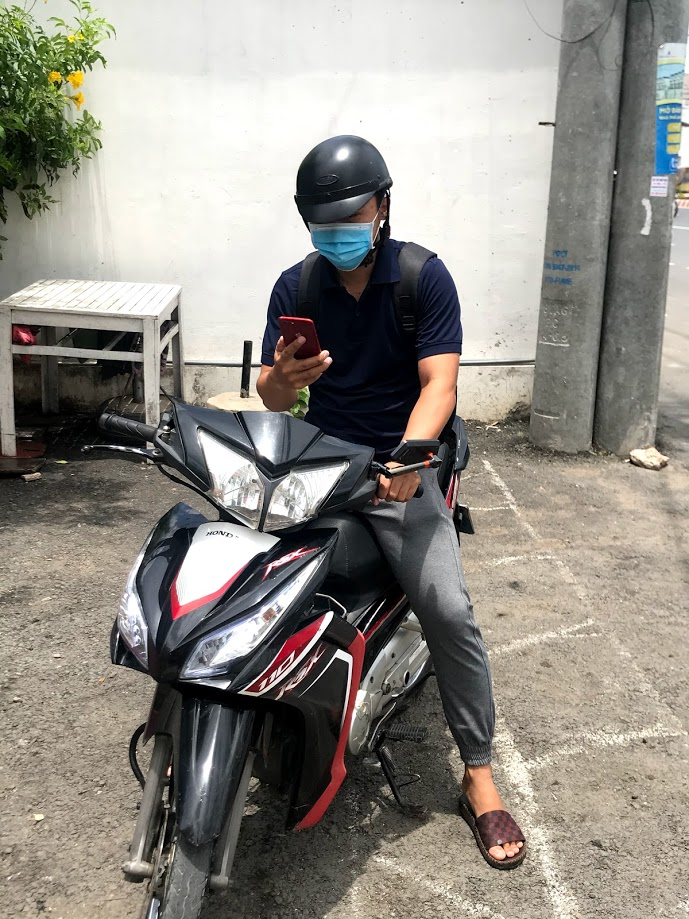dieu khien xe may: (116, 135, 455, 744)
su dung dien thoai: (268, 137, 392, 393)
